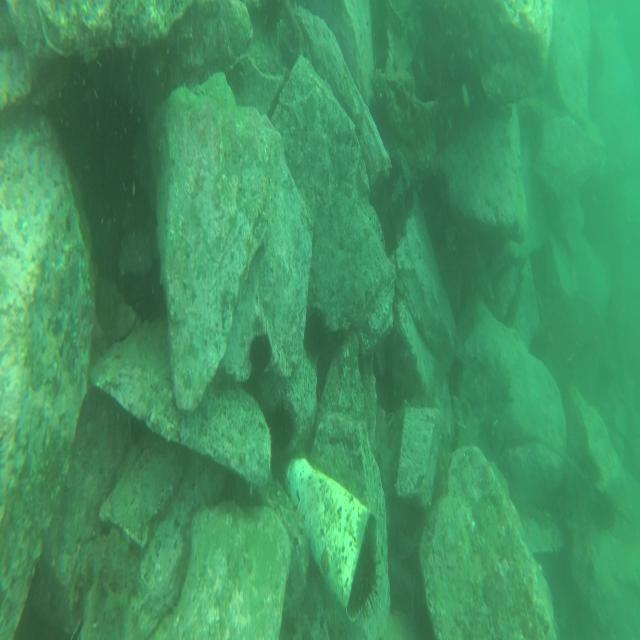echinus: (353, 547, 382, 617), (302, 307, 327, 362), (265, 405, 295, 450), (593, 492, 616, 534), (252, 332, 272, 370)
